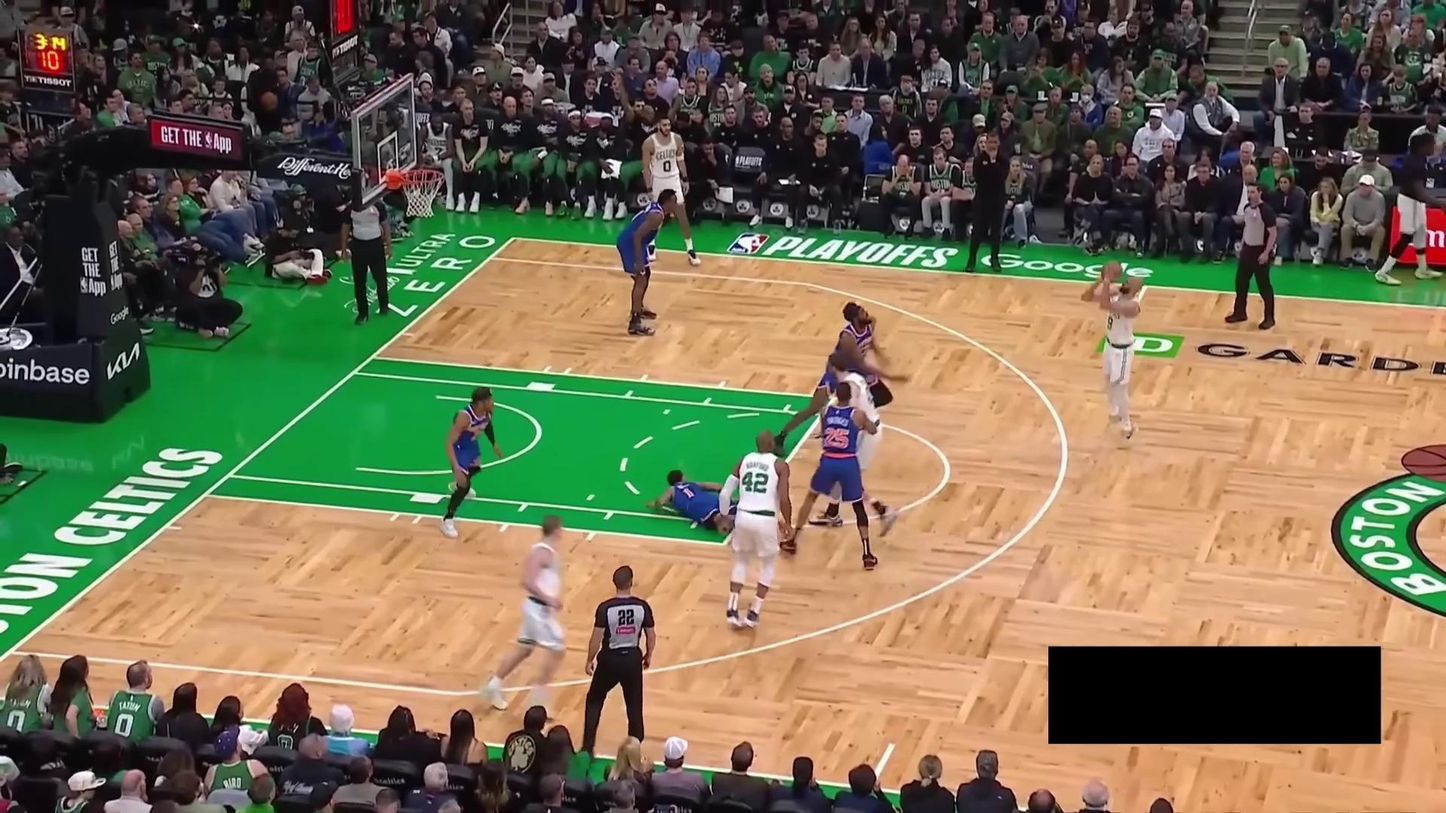ball: (1097, 258, 1122, 286)
number: (742, 469, 771, 497), (824, 427, 852, 451), (1106, 315, 1115, 331), (683, 487, 695, 499), (663, 158, 672, 173)
player: (768, 297, 911, 461), (780, 378, 883, 574), (481, 510, 575, 722), (714, 429, 803, 629), (808, 349, 901, 538), (431, 388, 506, 543), (612, 188, 678, 340), (640, 115, 705, 269), (650, 465, 738, 533)
player-jump-shot: (1082, 256, 1148, 448)
referee: (581, 561, 660, 758), (1223, 178, 1282, 335), (339, 196, 397, 325)
